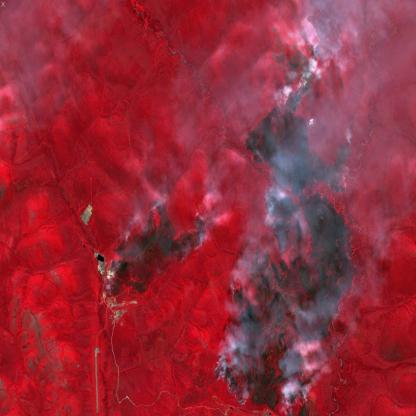fire: (213, 78, 377, 416), (100, 183, 214, 316)
